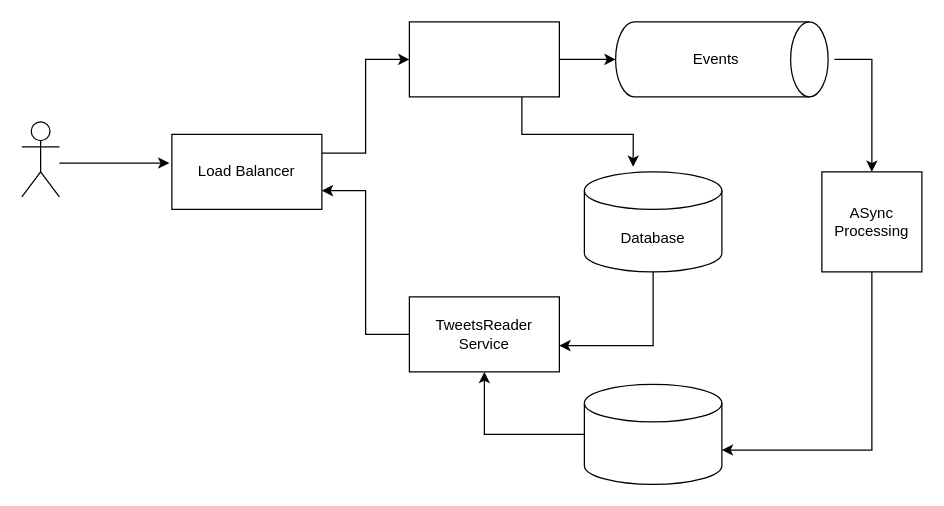
Some shapes in this 944 by 506 pixel diagram are drawn without their labels. The centre of each missing label's shape, as x and y in pixels:
In-Memory Cache: the point at 652,433
TweetsWriter Service: the point at 483,59
User: the point at 40,159
